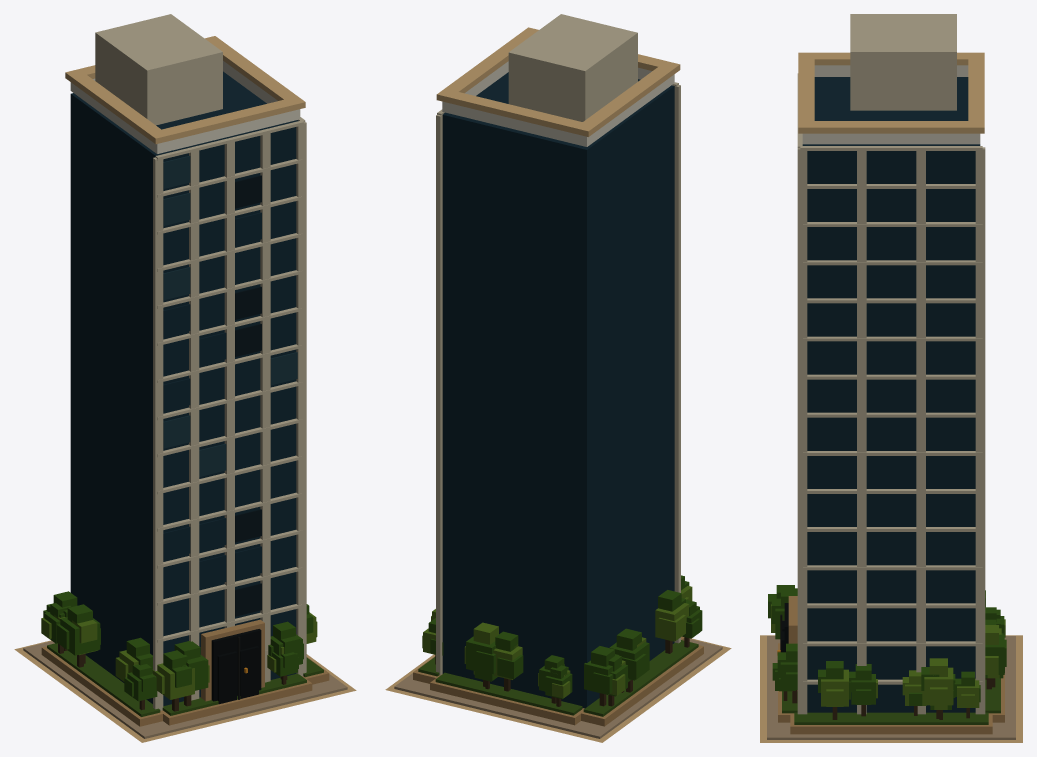
Rendered from SM_Mapa_009.fbx.
The picture shows the model from 3 angles, left to right: view 1: azimuth 30°, elevation 25°; view 2: azimuth 150°, elevation 25°; view 3: azimuth 270°, elevation 25°; orthographic projection. The views are drawn at different scales.
Visible parts, largest first — view 1: SM_Mapa_009; view 2: SM_Mapa_009; view 3: SM_Mapa_009.
Part boxes in pixels (left/top/right/bottom): SM_Mapa_009: left=14, top=14, right=356, bottom=742; SM_Mapa_009: left=385, top=14, right=731, bottom=742; SM_Mapa_009: left=760, top=14, right=1022, bottom=742.
Size of the model in its own units: 14 by 14.44 by 39.16.
